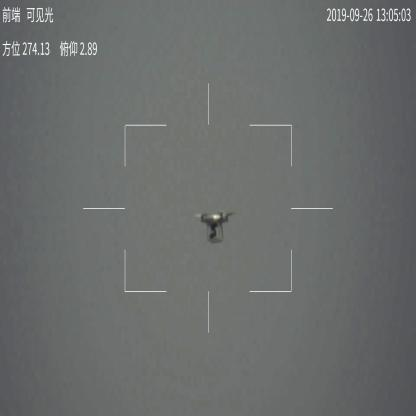uav: (193, 206, 232, 244)
